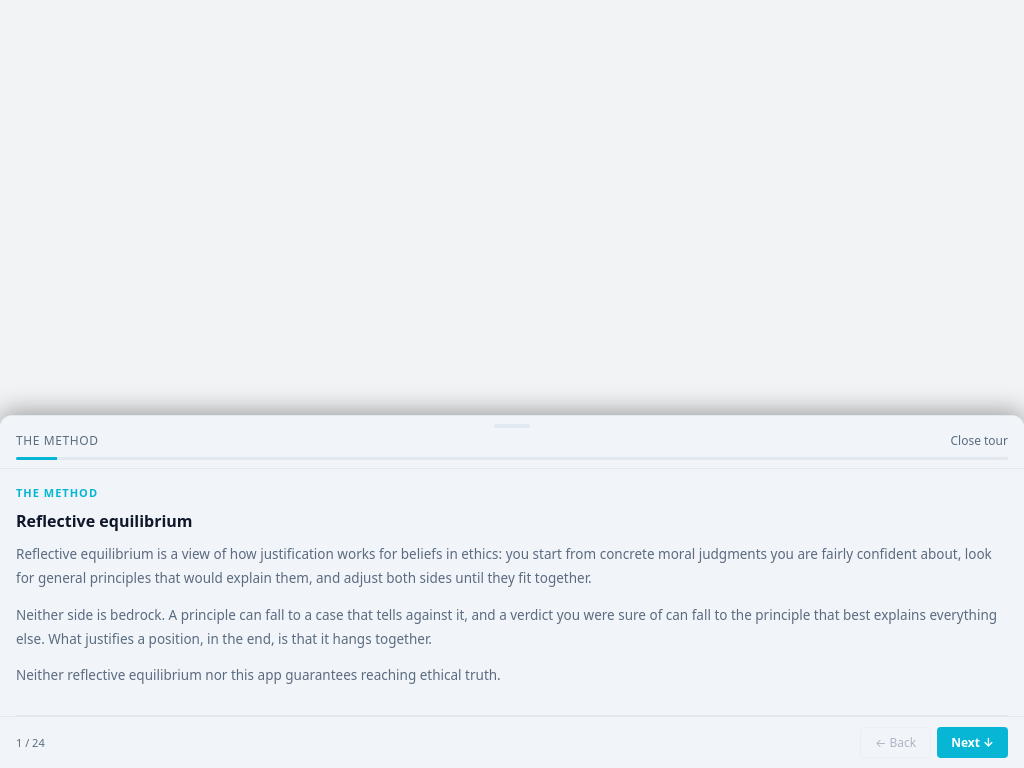
Test: the same tour on a narrow screen › swaps between its two heights from the handle, and says which
Press the mouse on the button named "Expand the tour" at coordinates (512, 424), box [0,416,1023,432]
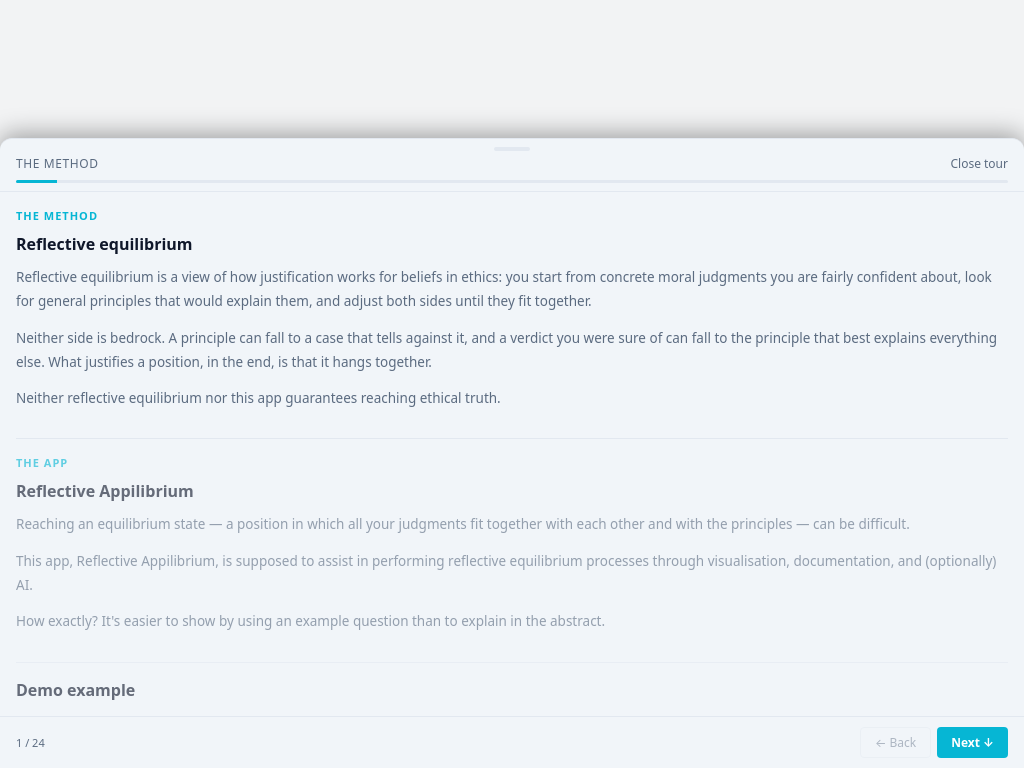
Expected: the button named "Shrink the tour" is shown, [0,139,1023,155]
